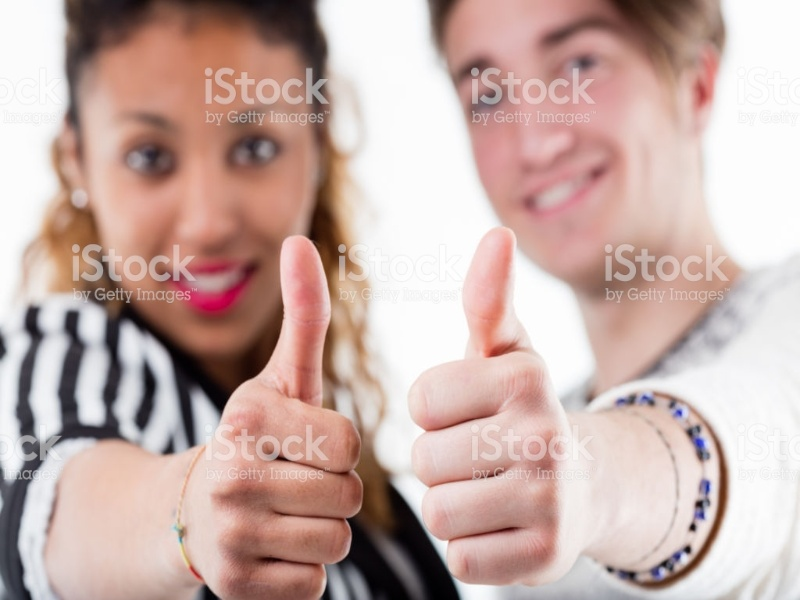smile: (65, 2, 328, 343), (434, 5, 732, 286)
thumbup: (409, 227, 584, 600), (195, 233, 362, 600)
